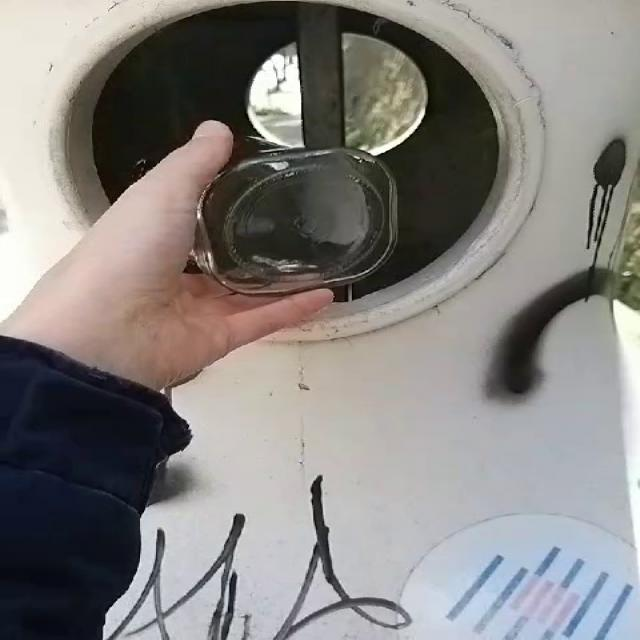glass: (192, 147, 397, 295)
